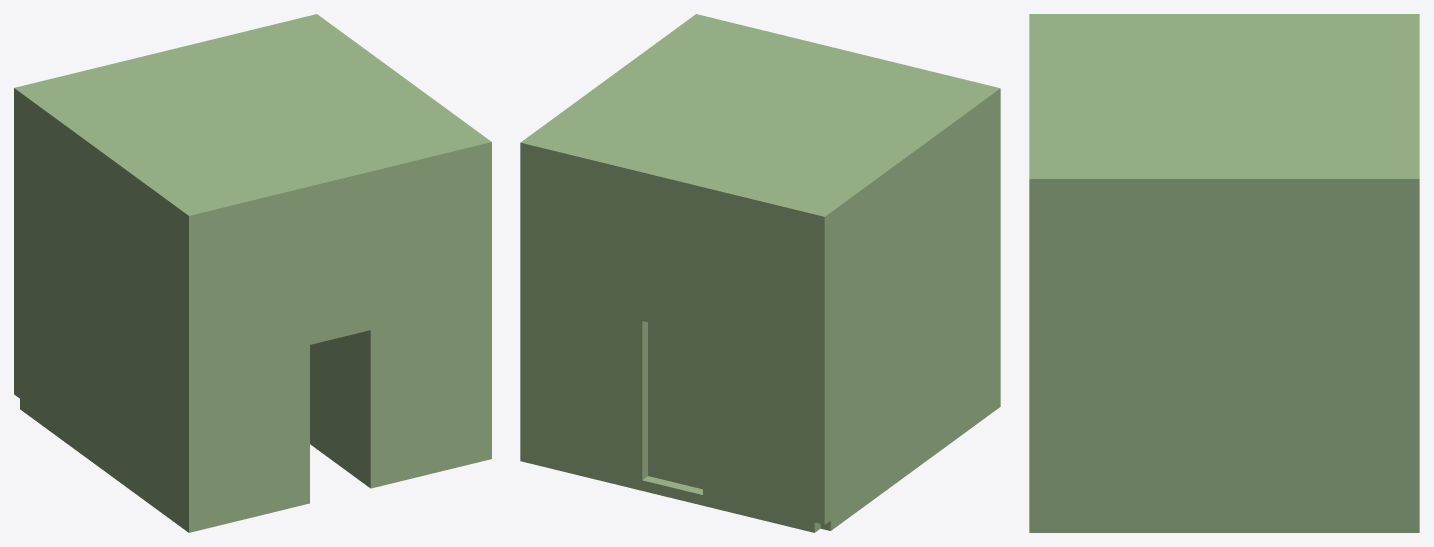
The picture shows the model from 3 angles, left to right: view 1: azimuth 30°, elevation 25°; view 2: azimuth 150°, elevation 25°; view 3: azimuth 270°, elevation 25°; orthographic projection. The views are drawn at different scales.
Bounding box in the file's own units: 1.5 × 1.5 × 1.5.
